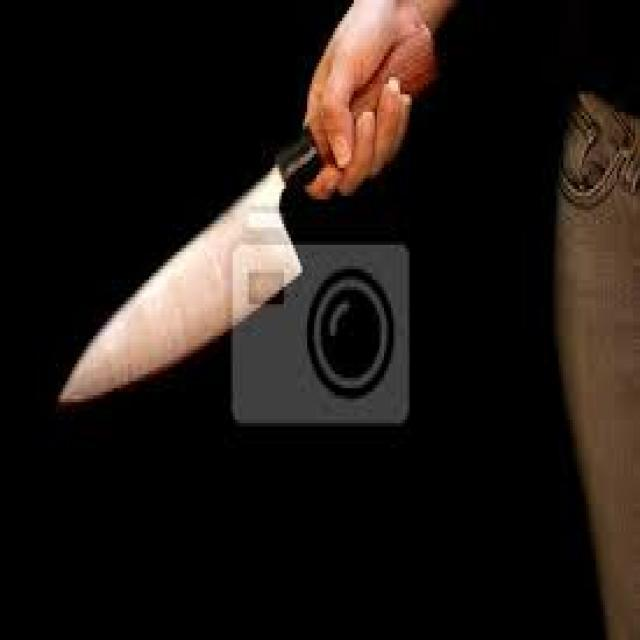faca: (53, 21, 419, 409)
